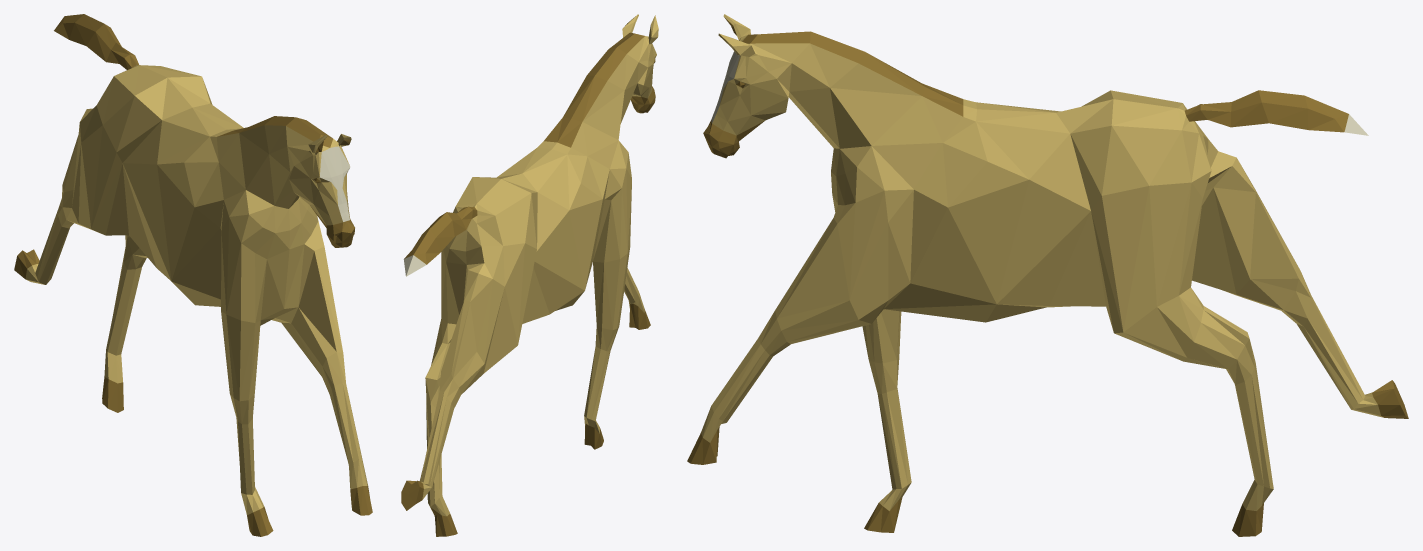
Rendered from Horse_golden_v3_tall_legs.glb.
3 views of the same model, side by side, from view 1: azimuth 30°, elevation 25°; view 2: azimuth 150°, elevation 25°; view 3: azimuth 270°, elevation 25° (orthographic). The views are drawn at different scales.
Bounding box in the file's own units: 61.1 × 255 × 322.
